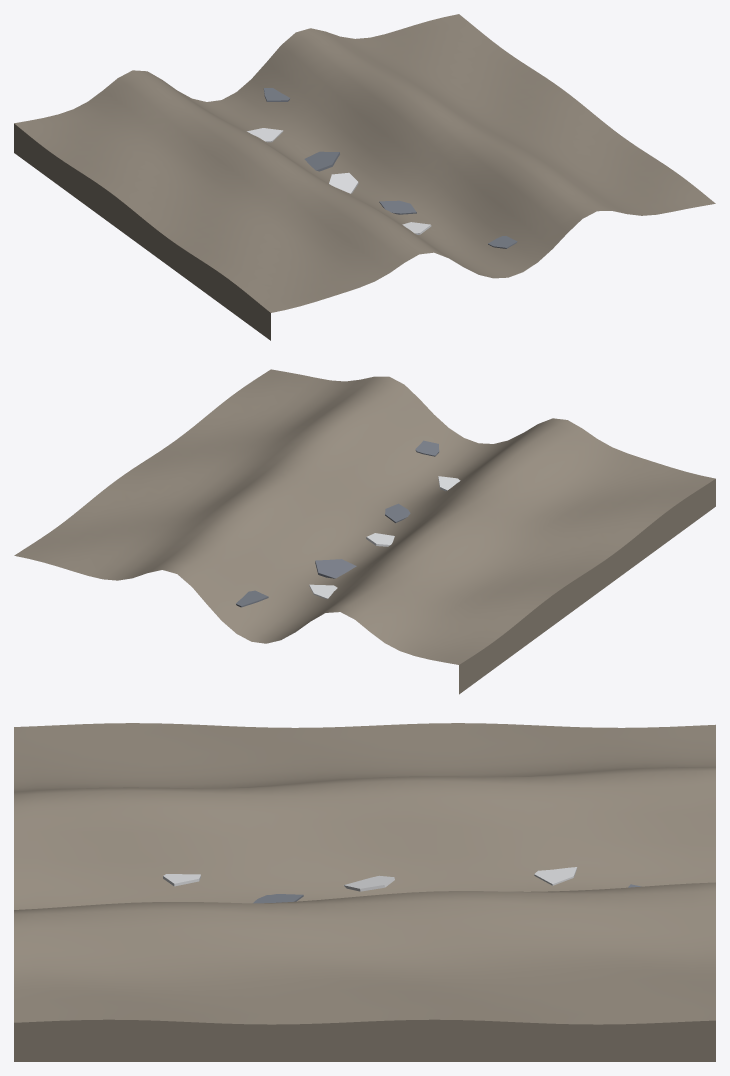
File: ufo-crash-site-and-recovery-facility-crash-furrow-tile-d208e2ae__17334.glb
The picture shows the model from 3 angles, top to bottom: view 1: azimuth 30°, elevation 25°; view 2: azimuth 150°, elevation 25°; view 3: azimuth 270°, elevation 25°; orthographic projection. The views are drawn at different scales.
Parts seen in each view (by area): view 1: crash-furrow-tile; view 2: crash-furrow-tile; view 3: crash-furrow-tile.
Part boxes in pixels (x1=…): crash-furrow-tile: x1=14, y1=14, x2=715, y2=340; crash-furrow-tile: x1=14, y1=369, x2=715, y2=694; crash-furrow-tile: x1=14, y1=723, x2=715, y2=1061.
Size of the model in its own units: 8 by 0.9209 by 8.
